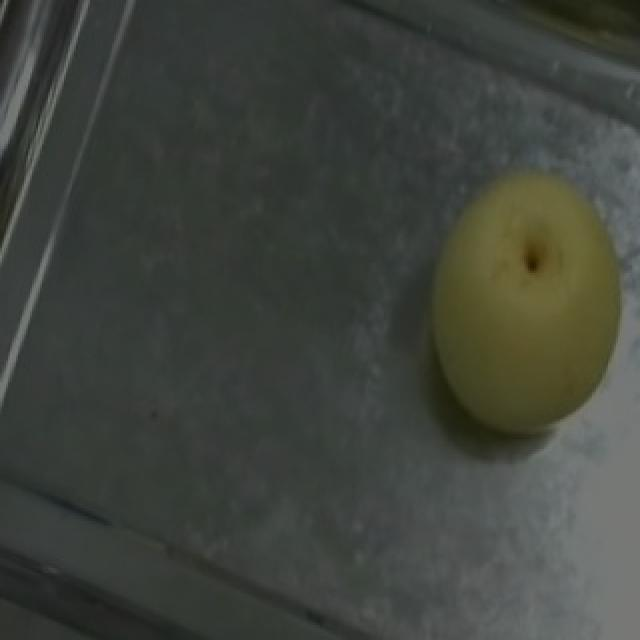Fruit: (386, 131, 640, 464)
